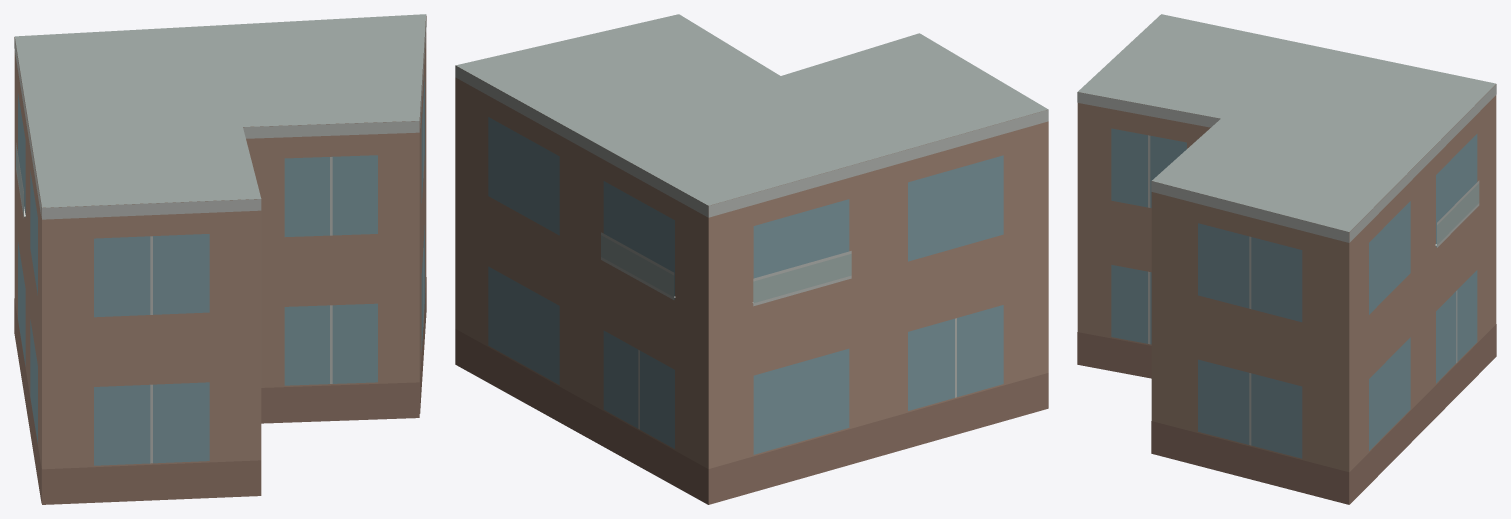
The model's file is survey-upis-32553243.glb.
The picture shows the model from 3 angles, left to right: view 1: azimuth 30°, elevation 25°; view 2: azimuth 150°, elevation 25°; view 3: azimuth 270°, elevation 25°; orthographic projection. The views are drawn at different scales.
Visible parts, largest first — view 1: survey-upis-32553243.tmp; view 2: survey-upis-32553243.tmp; view 3: survey-upis-32553243.tmp.
Part boxes in pixels (x1,y1,x2,y2): survey-upis-32553243.tmp: [14, 14, 426, 504]; survey-upis-32553243.tmp: [455, 14, 1048, 504]; survey-upis-32553243.tmp: [1077, 14, 1496, 504].
Bounding box in the file's own units: 10.47 × 6.1 × 8.5.
